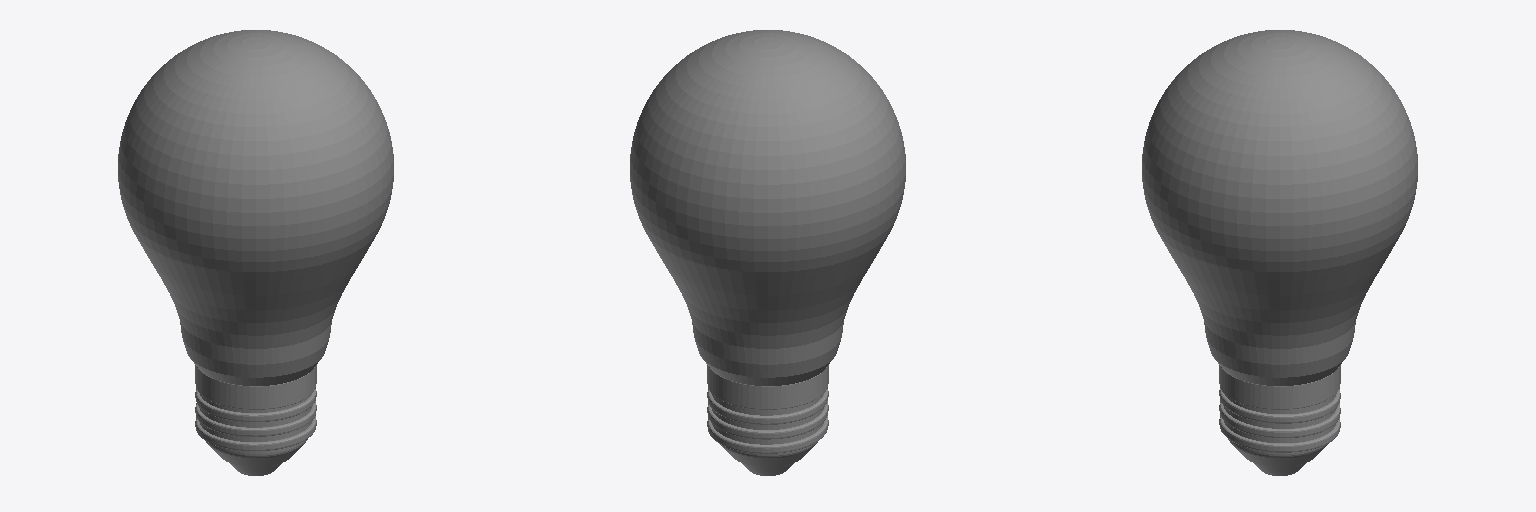
Rendered from pointlight.obj.
3 views of the same model, side by side, from view 1: azimuth 30°, elevation 25°; view 2: azimuth 150°, elevation 25°; view 3: azimuth 270°, elevation 25° (orthographic).
Visible parts, largest first — view 1: Object01, Object04; view 2: Object01, Object04; view 3: Object01, Object04.
Boxes of the visible parts, x1=… form: Object01: x1=118, y1=30, x2=393, y2=385; Object04: x1=195, y1=365, x2=316, y2=475; Object01: x1=630, y1=30, x2=905, y2=385; Object04: x1=707, y1=365, x2=828, y2=475; Object01: x1=1142, y1=30, x2=1417, y2=385; Object04: x1=1219, y1=365, x2=1340, y2=475.
Size of the model in its own units: 94.68 by 161 by 94.68.